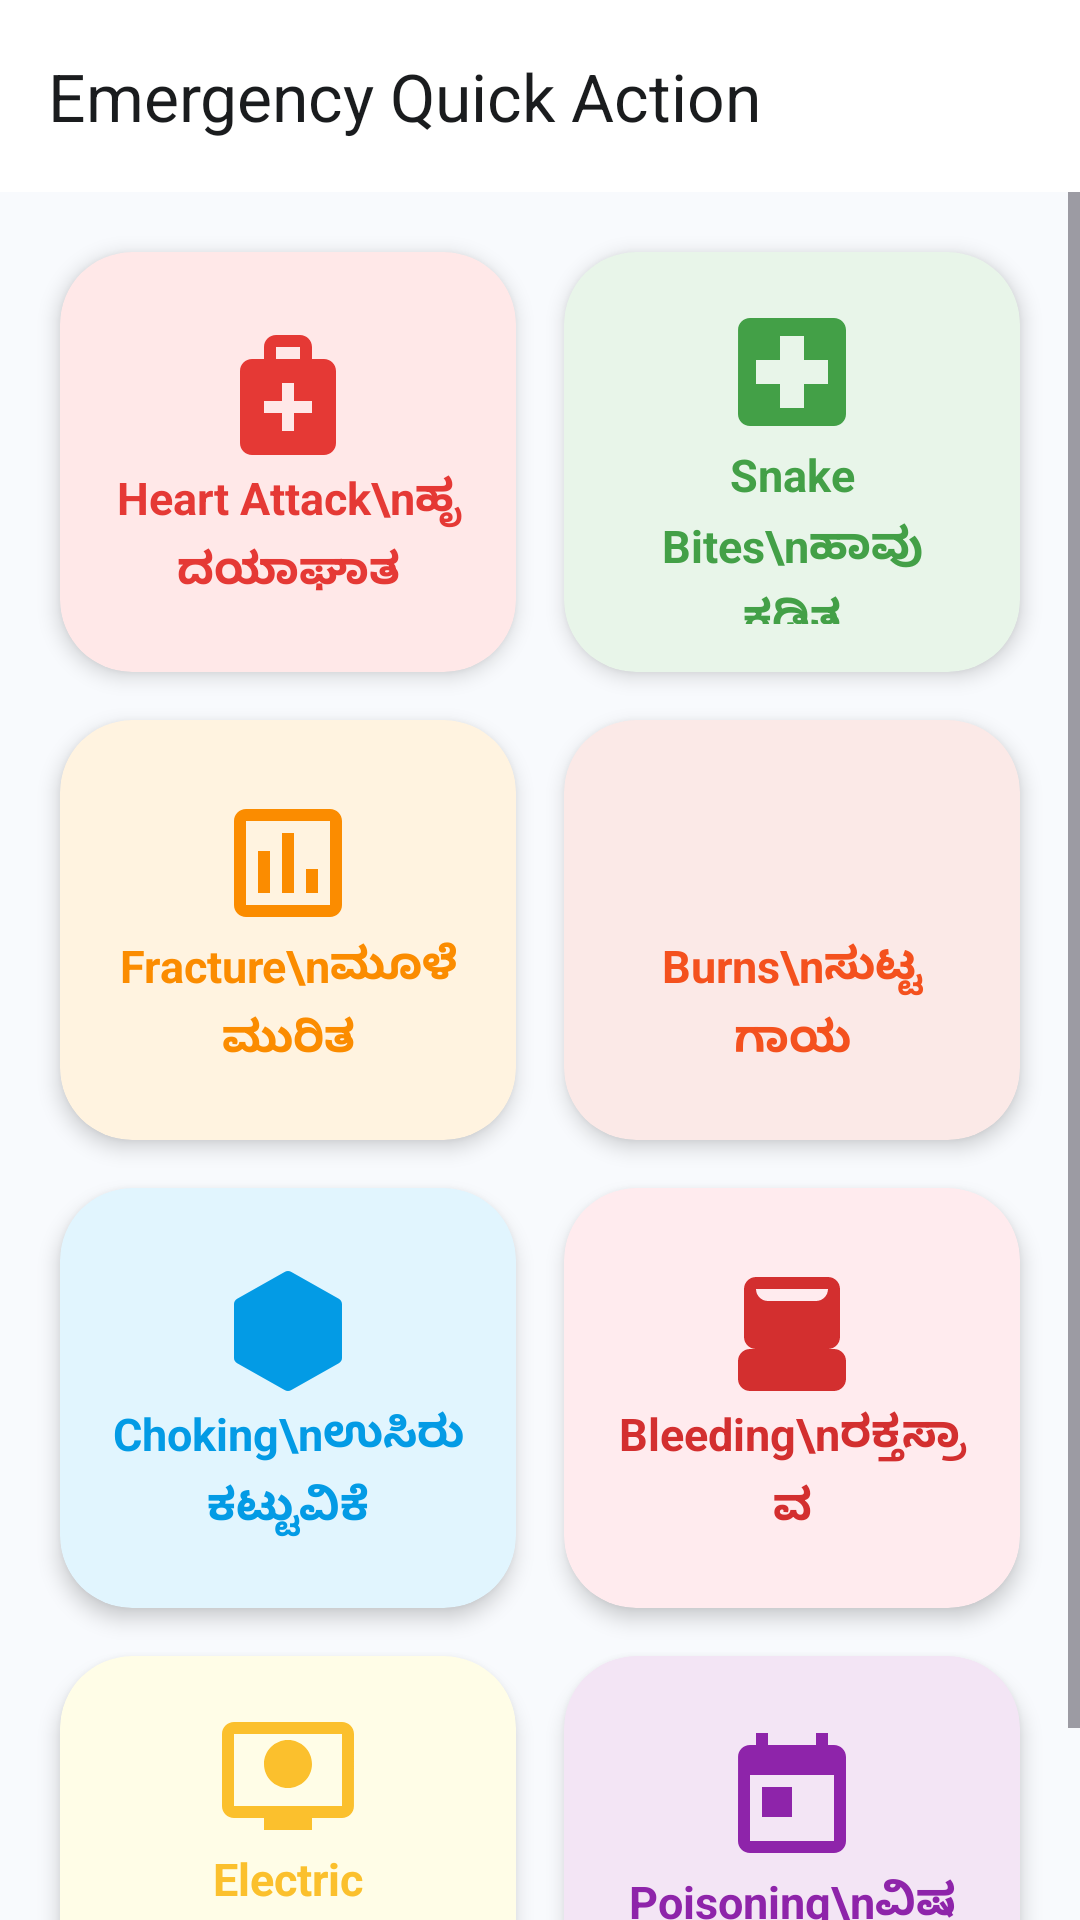

Icon click points for this 1080*1920 phone screenshot, format point (x, y):
appointment: point (792, 1793)
chart: point (288, 863)
